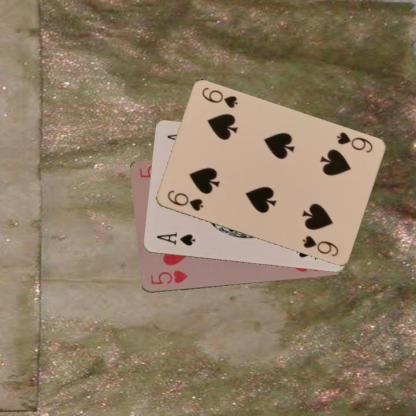5h: (147, 268, 189, 286)
6s: (164, 188, 205, 212), (333, 130, 374, 154)
As: (154, 230, 196, 247)
